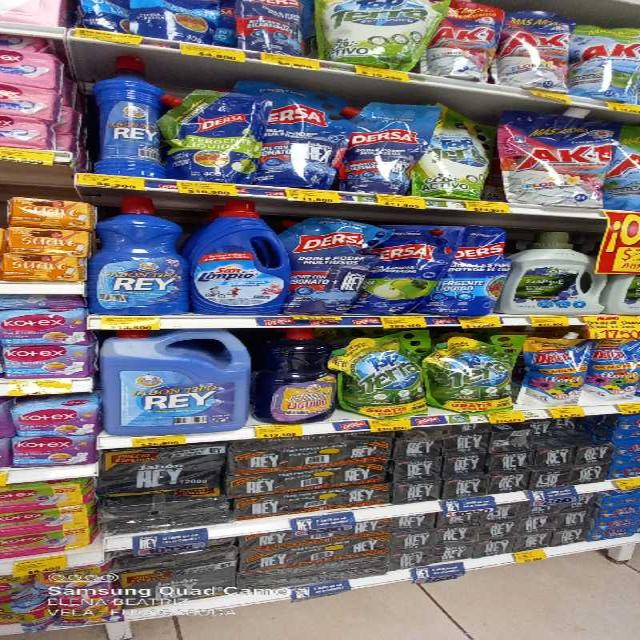Jabon_rey: (104, 318, 252, 436)
